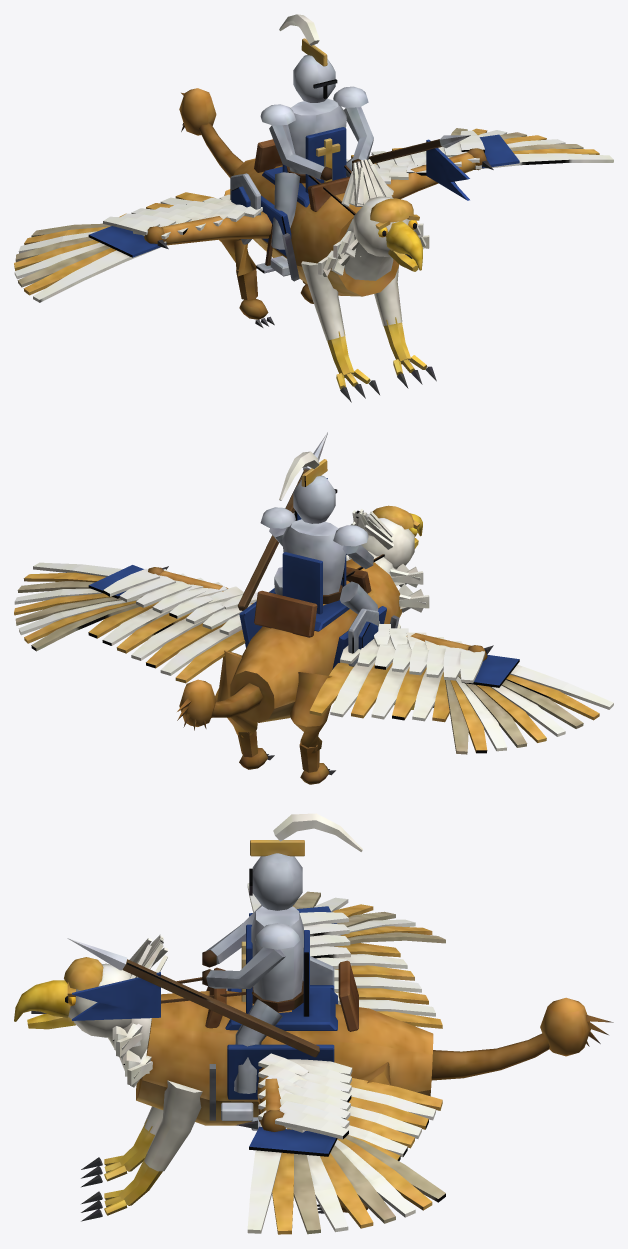
Rendered from gryphon_rider.glb.
3 renders of one model, top to bottom at view 1: azimuth 30°, elevation 25°; view 2: azimuth 150°, elevation 25°; view 3: azimuth 270°, elevation 25°, orthographic. The views are drawn at different scales.
Parts seen in each view (by area): view 1: Torso, WingL, WingR, Head; view 2: Torso, WingL, WingR, Head; view 3: Torso, WingR, WingL, Head.
Part boxes in pixels (x1,y1,x2,y2): Torso: (179, 14, 470, 402); WingL: (14, 192, 271, 302); WingR: (346, 128, 613, 199); Head: (341, 159, 422, 271); Torso: (177, 432, 434, 784); WingL: (309, 624, 613, 754); WingR: (14, 562, 257, 683); Head: (350, 505, 422, 568); Torso: (67, 813, 613, 1221); WingR: (236, 1053, 445, 1234); WingL: (247, 883, 445, 1028); Head: (14, 934, 167, 1037).
Bounding box in the file's own units: 5.08 × 2.6 × 3.7.
Materials: 2 (2 with a texture image).
